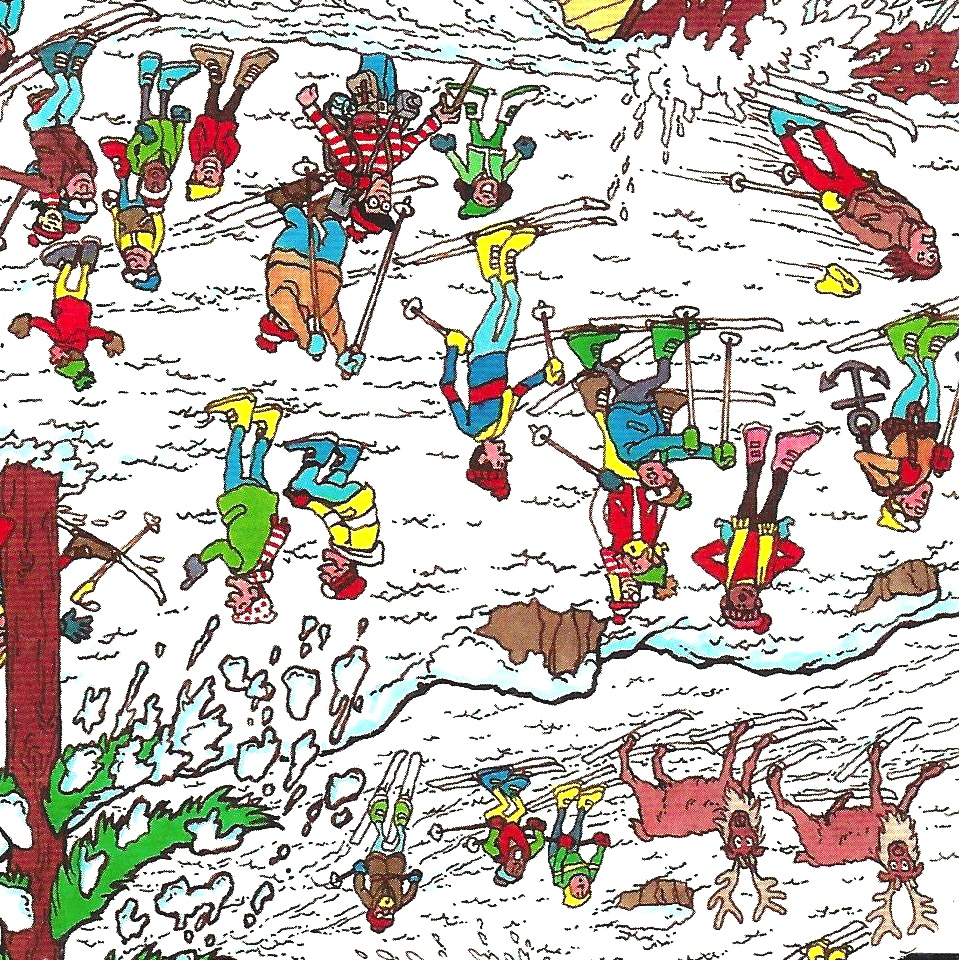waldo: (343, 176, 402, 241)
